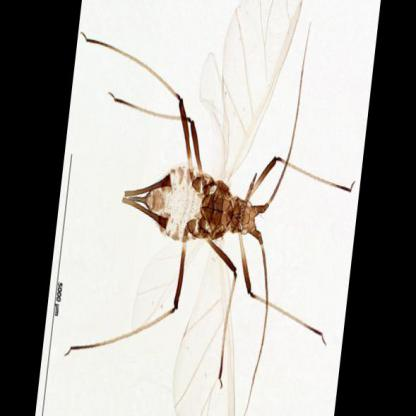uroleucon compositae: (73, 1, 350, 415)
